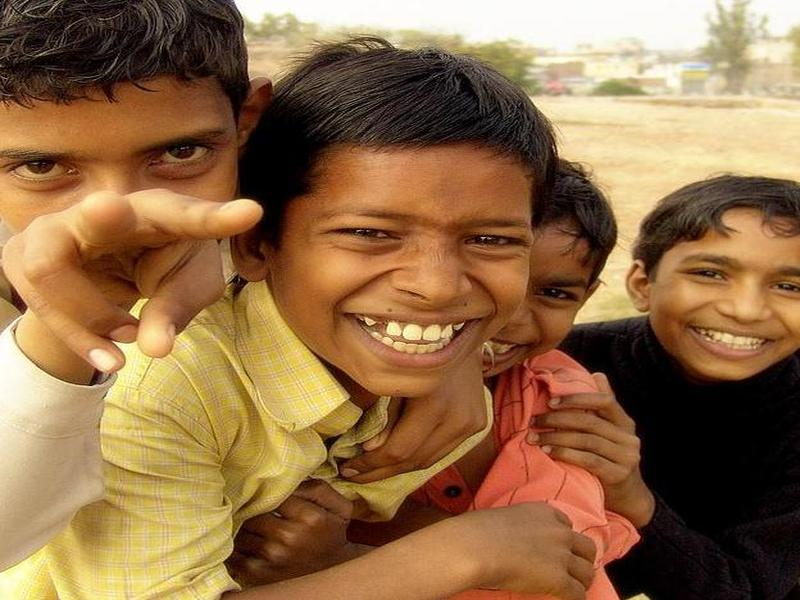person: (7, 37, 562, 600), (562, 162, 798, 600), (1, 1, 269, 349), (478, 158, 614, 373)
